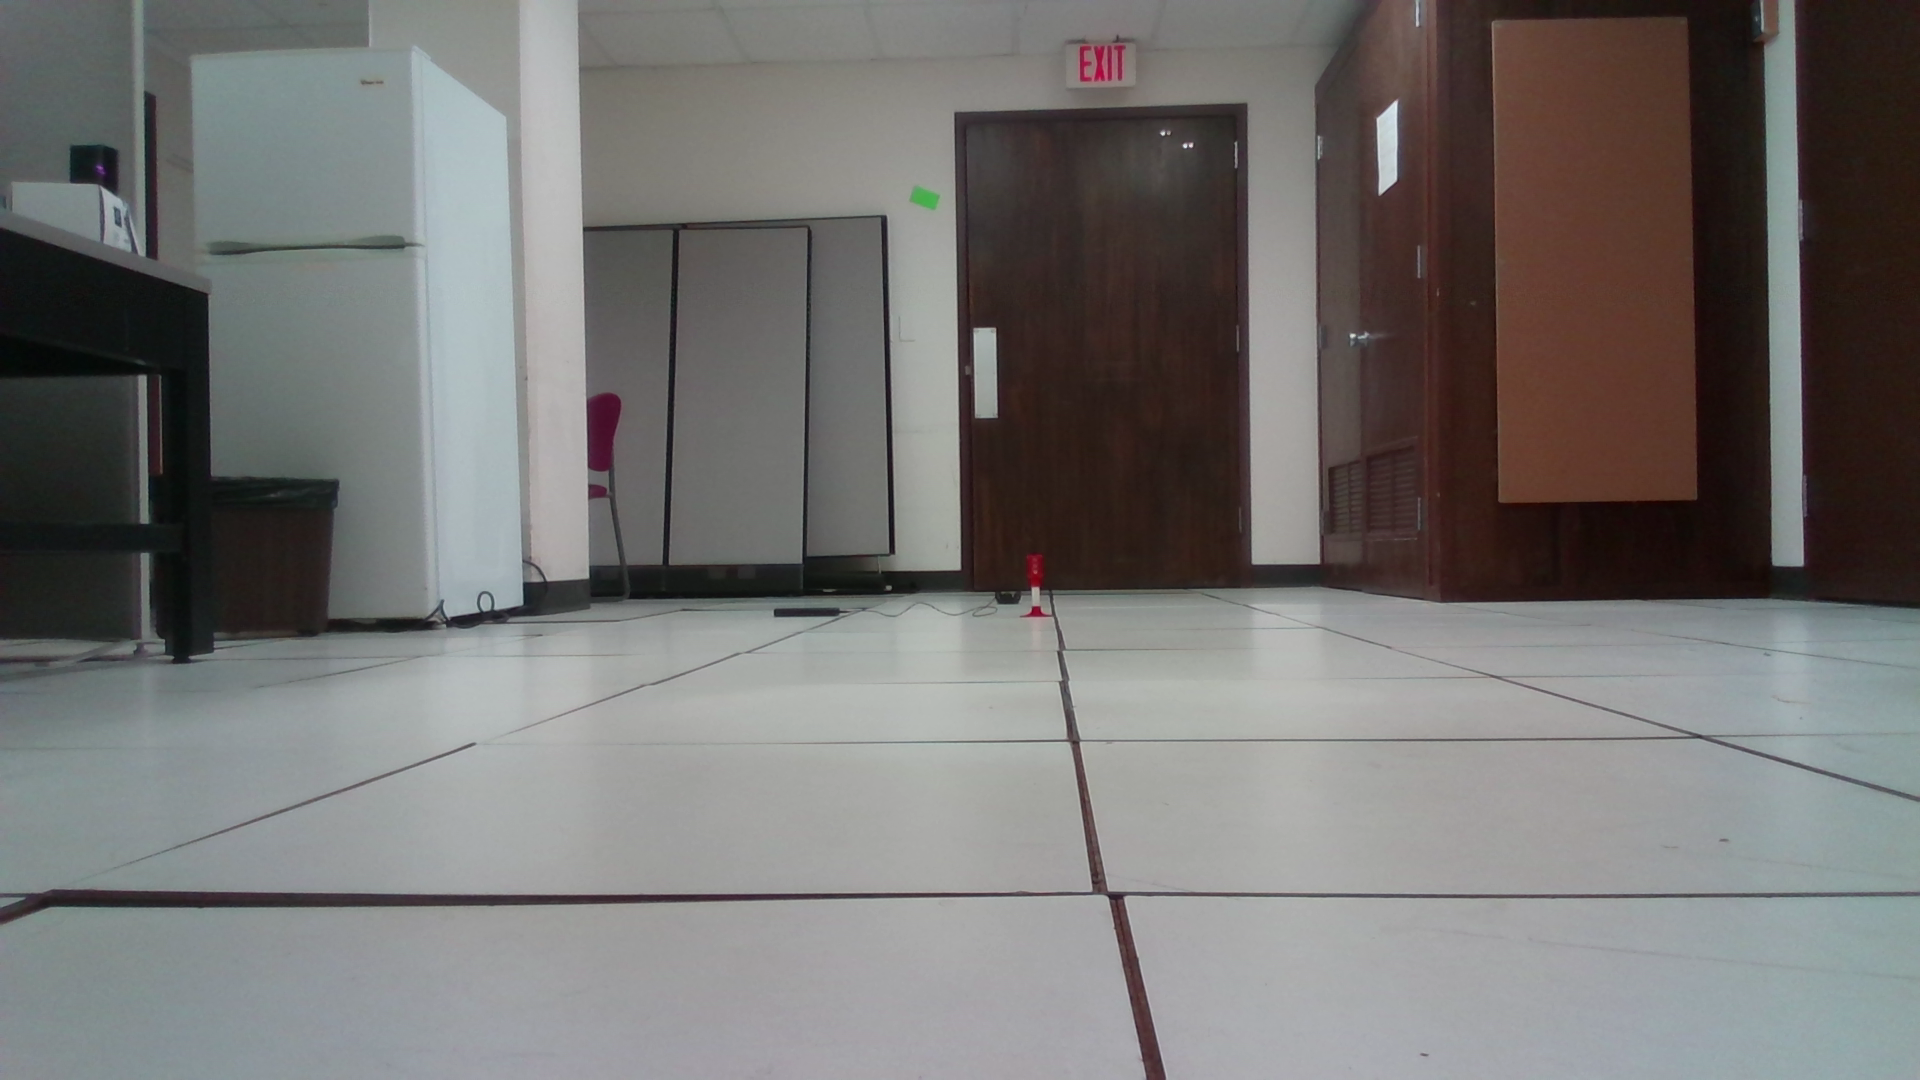stoplight: (1027, 554, 1043, 587)
